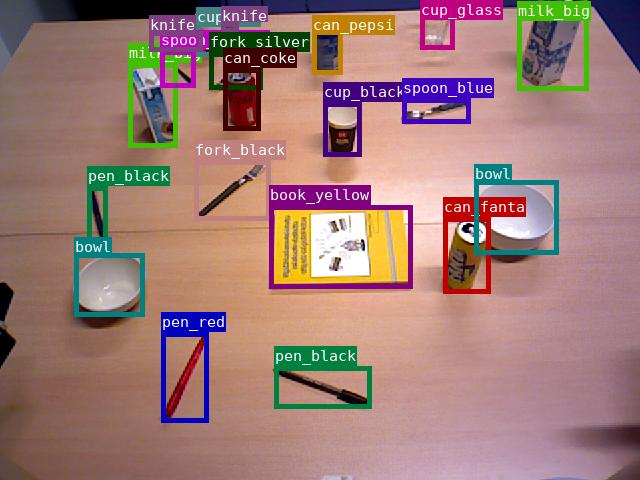book_yellow: (269, 205, 412, 288)
bowl: (474, 180, 558, 254), (74, 253, 144, 316)
can_coke: (223, 68, 260, 130)
can_fanta: (443, 217, 490, 293)
can_pepsi: (312, 15, 342, 74)
cup_black: (323, 102, 361, 156)
cup_glass: (420, 0, 454, 49)
cup_red: (196, 7, 225, 56)
fork_black: (194, 160, 270, 220)
fork_silver: (209, 52, 262, 89)
knife: (149, 31, 202, 51), (221, 22, 238, 32)
milk_big: (517, 1, 588, 90), (128, 63, 177, 147)
pen_black: (274, 366, 371, 408), (87, 186, 107, 242)
pen_red: (161, 332, 208, 422)
spoon_blue: (402, 98, 470, 123)
spoon_silver: (160, 50, 195, 87)
